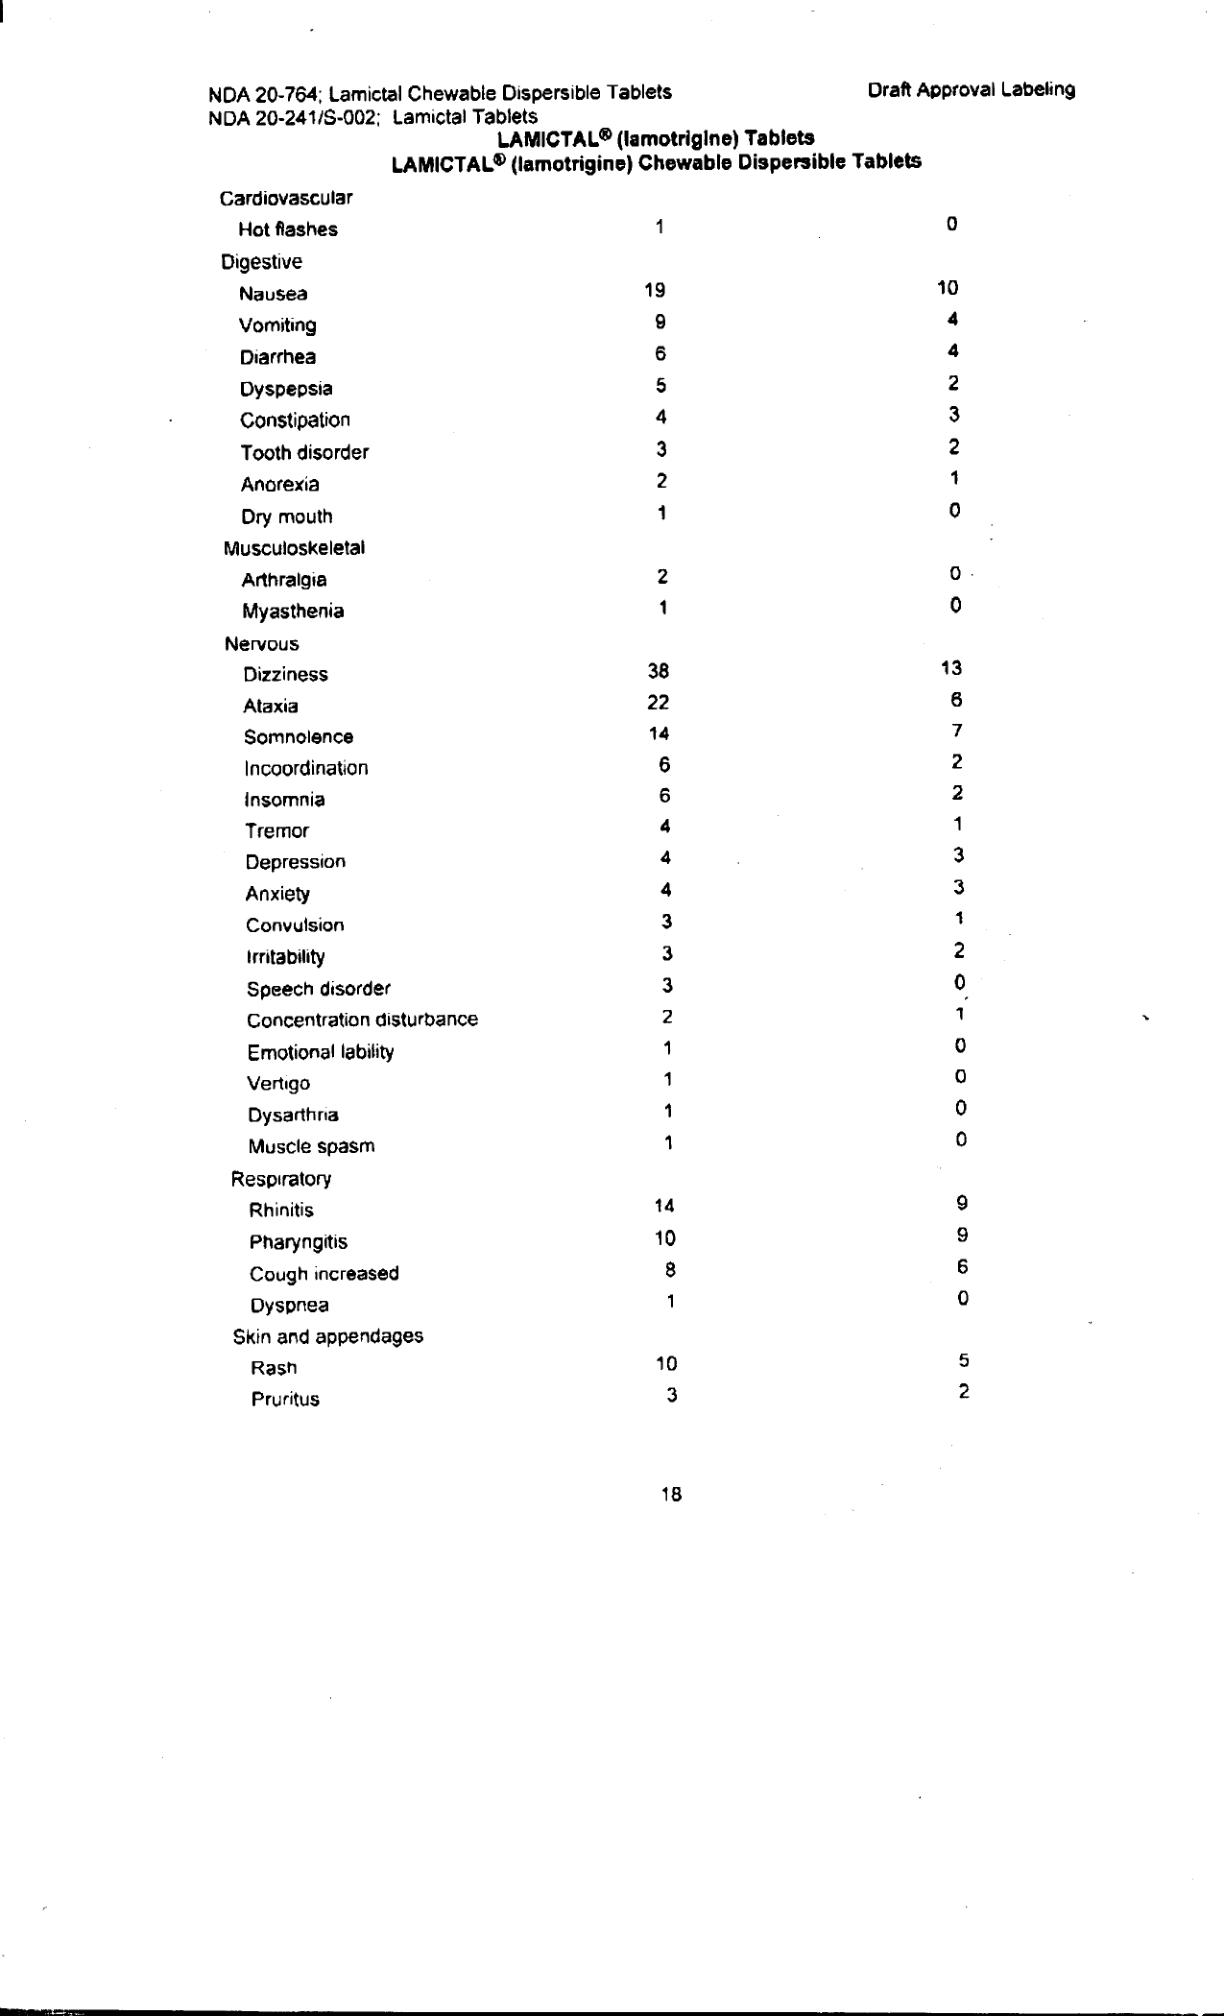nolines: (216, 184, 981, 1413)
